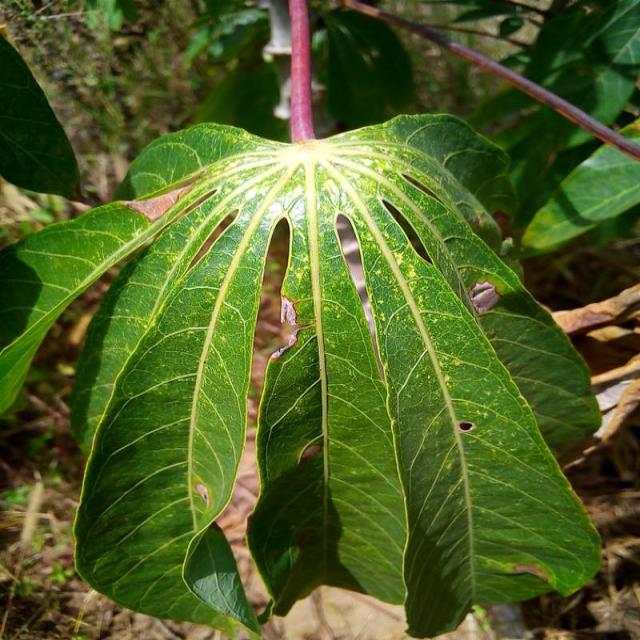cassava leaf: (65, 113, 605, 637)
